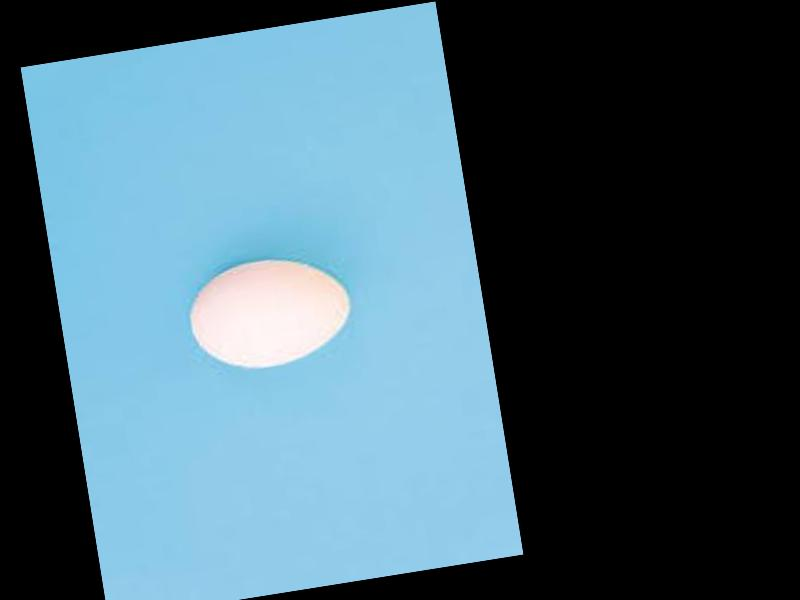Eggs: (182, 246, 360, 376)
